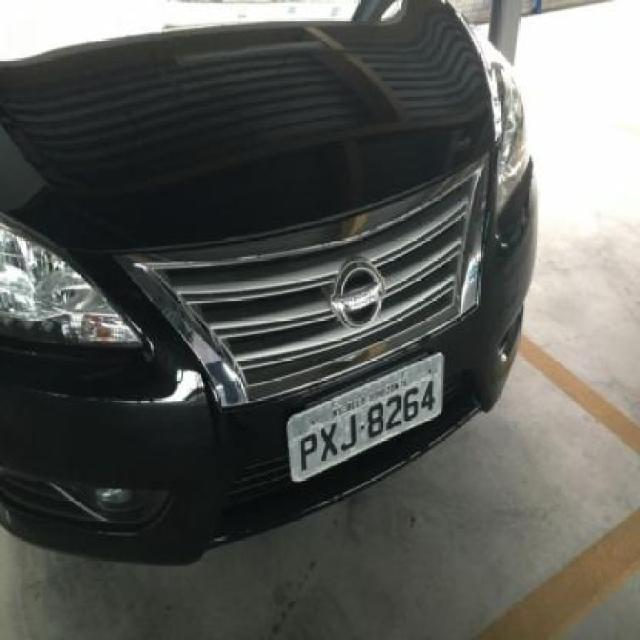old_plate: (283, 347, 450, 487)
